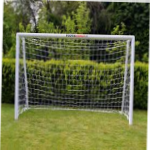goals: (12, 31, 138, 128)
